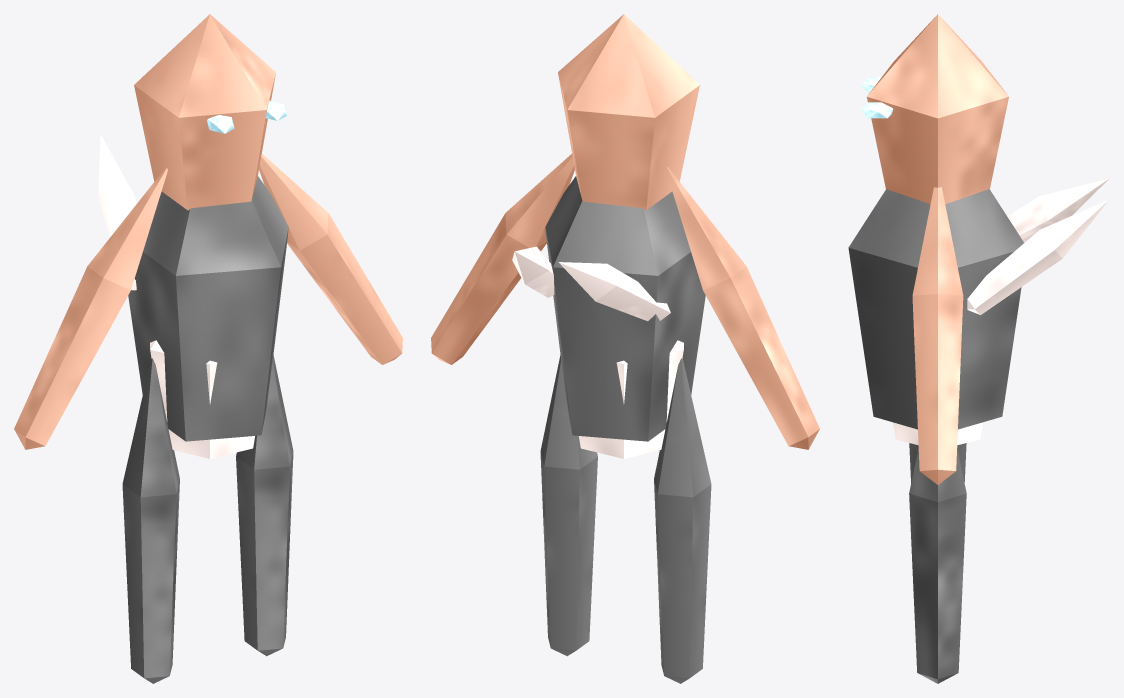
Rendered from deep-fracture-creature-Shardling-fire.glb.
3 renders of one model, left to right at view 1: azimuth 30°, elevation 25°; view 2: azimuth 150°, elevation 25°; view 3: azimuth 270°, elevation 25°, orthographic. The views are drawn at different scales.
Parts seen in each view (by area): view 1: torso, head, runner-l, runner-r, arm-l, arm-r, locomotion-core, back-spine-left; view 2: torso, head, runner-l, runner-r, arm-l, arm-r, back-spine-left, locomotion-core, back-spine-right; view 3: torso, head, arm-r, runner-r, back-spine-right, back-spine-left, locomotion-core, runner-l, inset-eye-1.
Boxes of the visible parts, left/top/right/bottom form: torso: left=128, top=176, right=288, bottom=441; head: left=134, top=14, right=275, bottom=210; runner-l: left=122, top=358, right=179, bottom=683; runner-r: left=236, top=355, right=293, bottom=656; arm-l: left=14, top=167, right=167, bottom=449; arm-r: left=259, top=154, right=402, bottom=364; locomotion-core: left=150, top=340, right=254, bottom=458; back-spine-left: left=98, top=134, right=136, bottom=290; torso: left=545, top=176, right=705, bottom=441; head: left=558, top=14, right=699, bottom=210; runner-l: left=654, top=358, right=711, bottom=683; runner-r: left=540, top=355, right=597, bottom=656; arm-l: left=666, top=167, right=819, bottom=449; arm-r: left=431, top=154, right=574, bottom=364; back-spine-left: left=558, top=262, right=670, bottom=321; locomotion-core: left=579, top=340, right=683, bottom=458; back-spine-right: left=512, top=246, right=554, bottom=297; torso: left=848, top=189, right=1023, bottom=429; head: left=867, top=14, right=1008, bottom=204; arm-r: left=912, top=187, right=963, bottom=484; runner-r: left=909, top=448, right=966, bottom=683; back-spine-right: left=967, top=200, right=1108, bottom=314; back-spine-left: left=1007, top=178, right=1108, bottom=242; locomotion-core: left=892, top=422, right=982, bottom=445; runner-l: left=909, top=443, right=966, bottom=483; inset-eye-1: left=862, top=102, right=893, bottom=118.
Size of the model in its own units: 1.22 by 1.99 by 0.7324.
5 materials, 5 textured.
